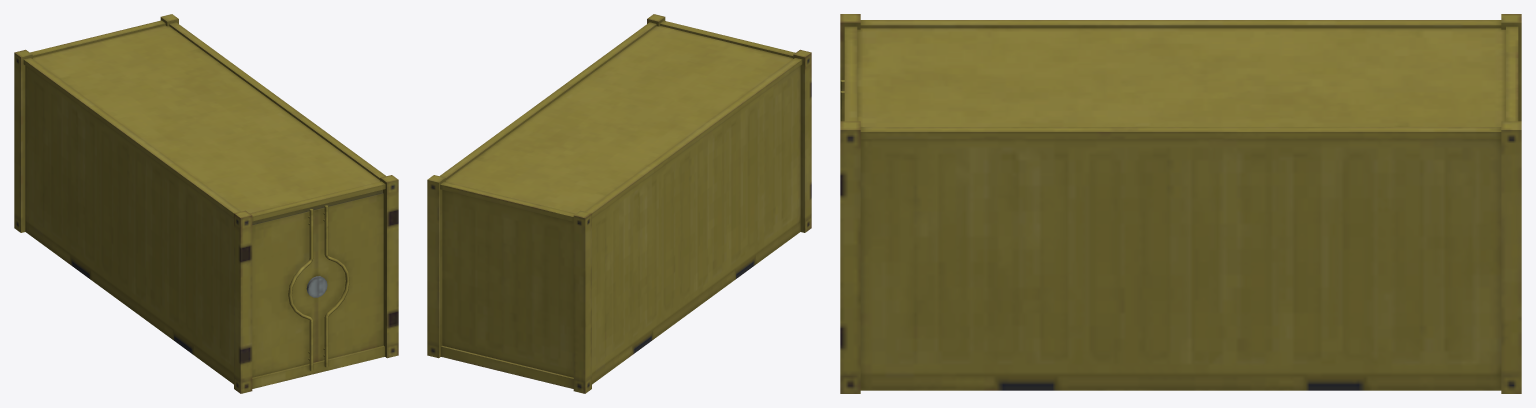
The model's file is objects_un_t05container03.gltf.
The picture shows the model from 3 angles, left to right: view 1: azimuth 30°, elevation 25°; view 2: azimuth 150°, elevation 25°; view 3: azimuth 270°, elevation 25°; orthographic projection. The views are drawn at different scales.
Visible parts, largest first — view 1: container01_shape:objects_un_t05container03_obj01; view 2: container01_shape:objects_un_t05container03_obj01; view 3: container01_shape:objects_un_t05container03_obj01.
Part boxes in pixels (x1,y1,x2,y2): container01_shape:objects_un_t05container03_obj01: [14, 14, 398, 393]; container01_shape:objects_un_t05container03_obj01: [427, 14, 811, 393]; container01_shape:objects_un_t05container03_obj01: [840, 14, 1521, 393].
Size of what is drawn, in the model's own units: 2.44 by 2.59 by 6.06.
Materials: 1 (1 with a texture image).
